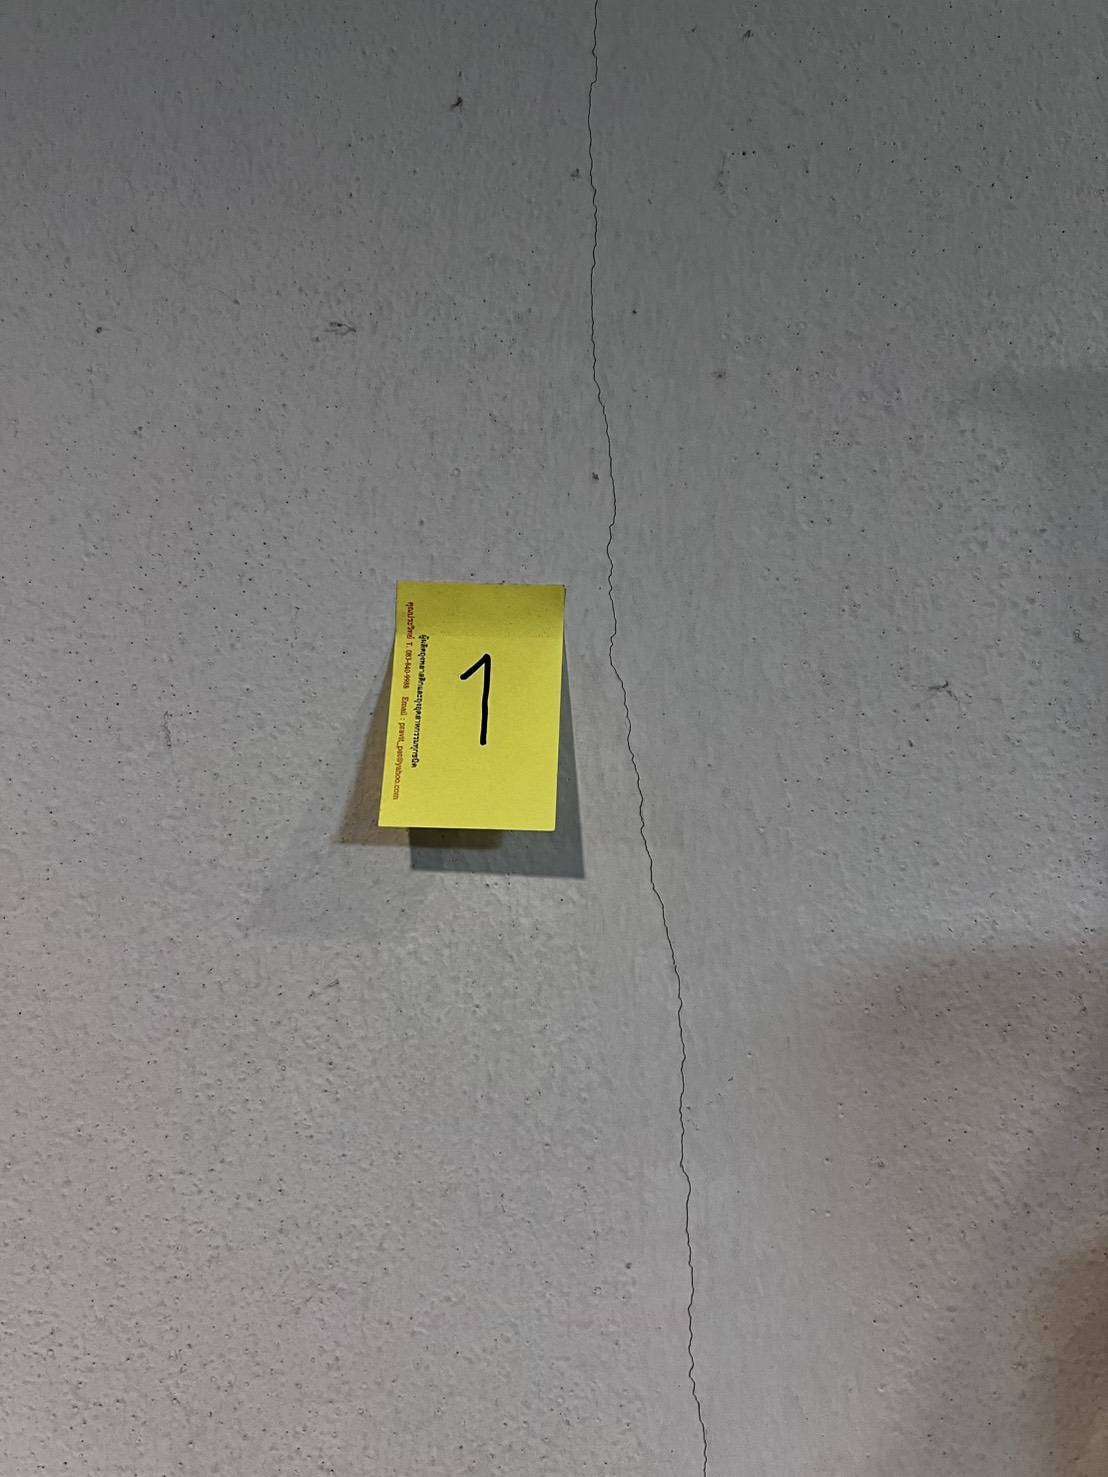Low: (531, 2, 814, 1477)
